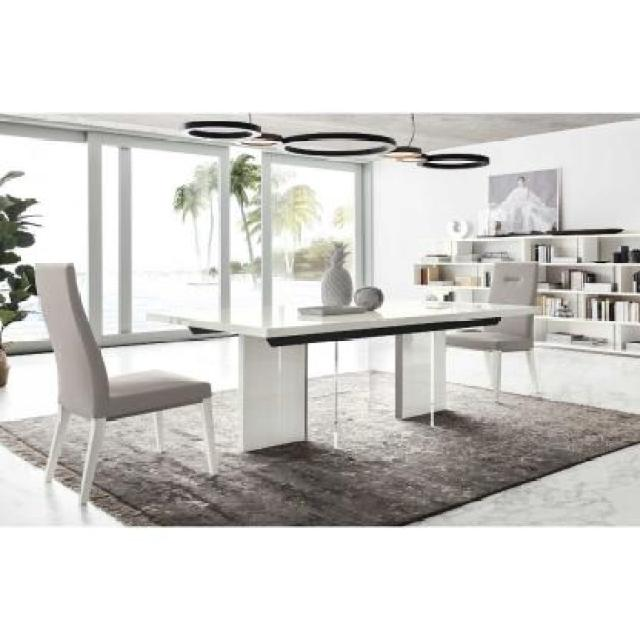floor: (1, 337, 640, 640), (103, 335, 240, 393)
